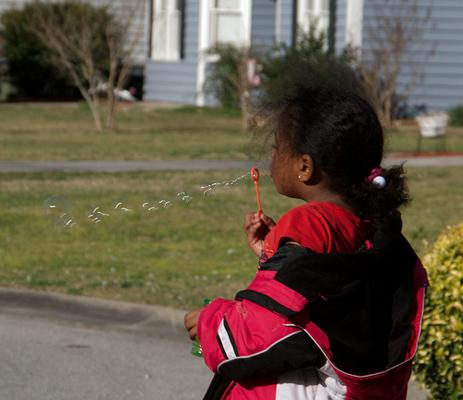person: (182, 44, 435, 400)
